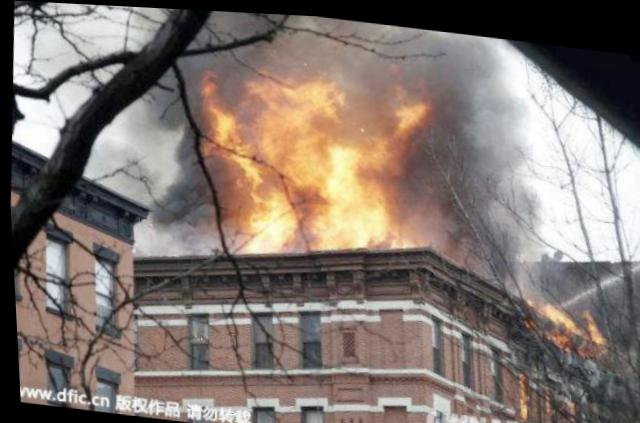fire: (182, 55, 439, 267), (518, 288, 611, 357)
